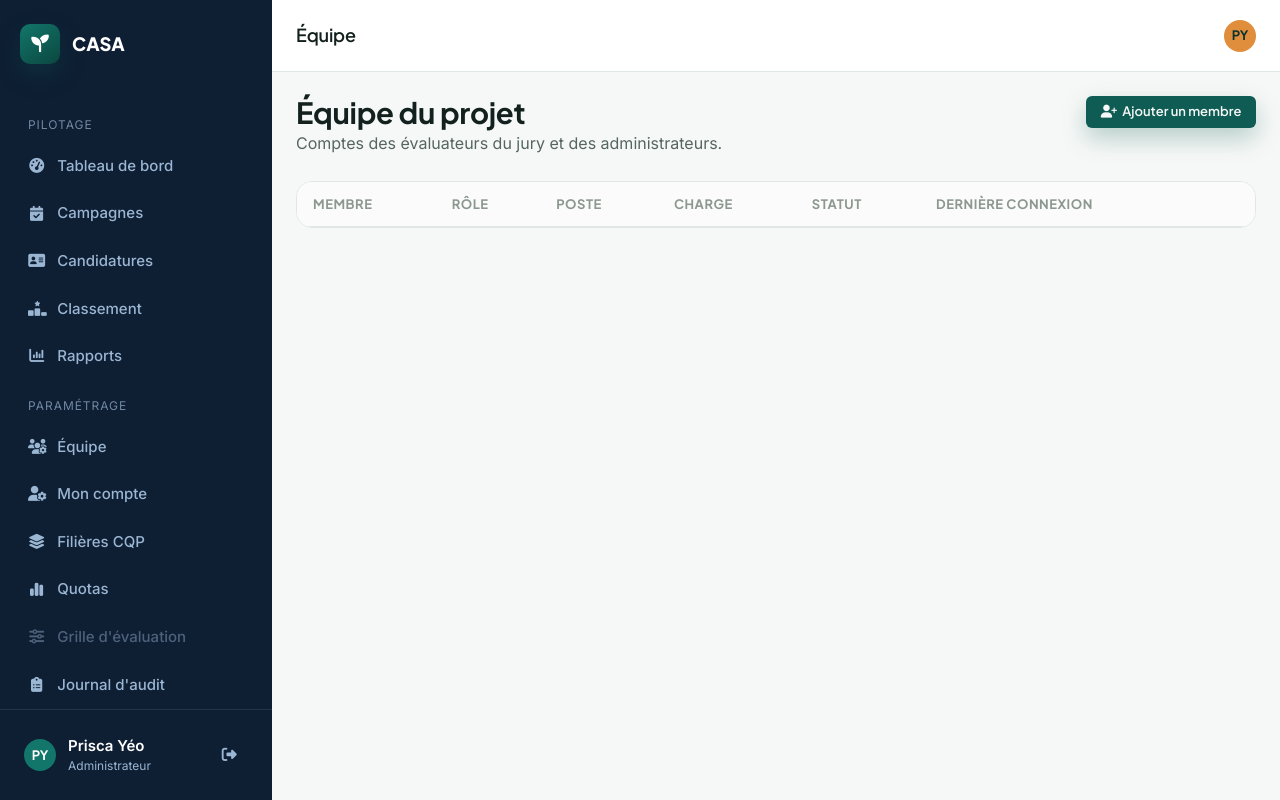
Test: Équipe — gestion des comptes (Lot 11b) › 422 sur un rôle refusé → message verbatim, modal ouvert
Step 1. Click the button "Ajouter un membre" → (1171, 112), box x1=1086 y1=96 x2=1256 y2=128
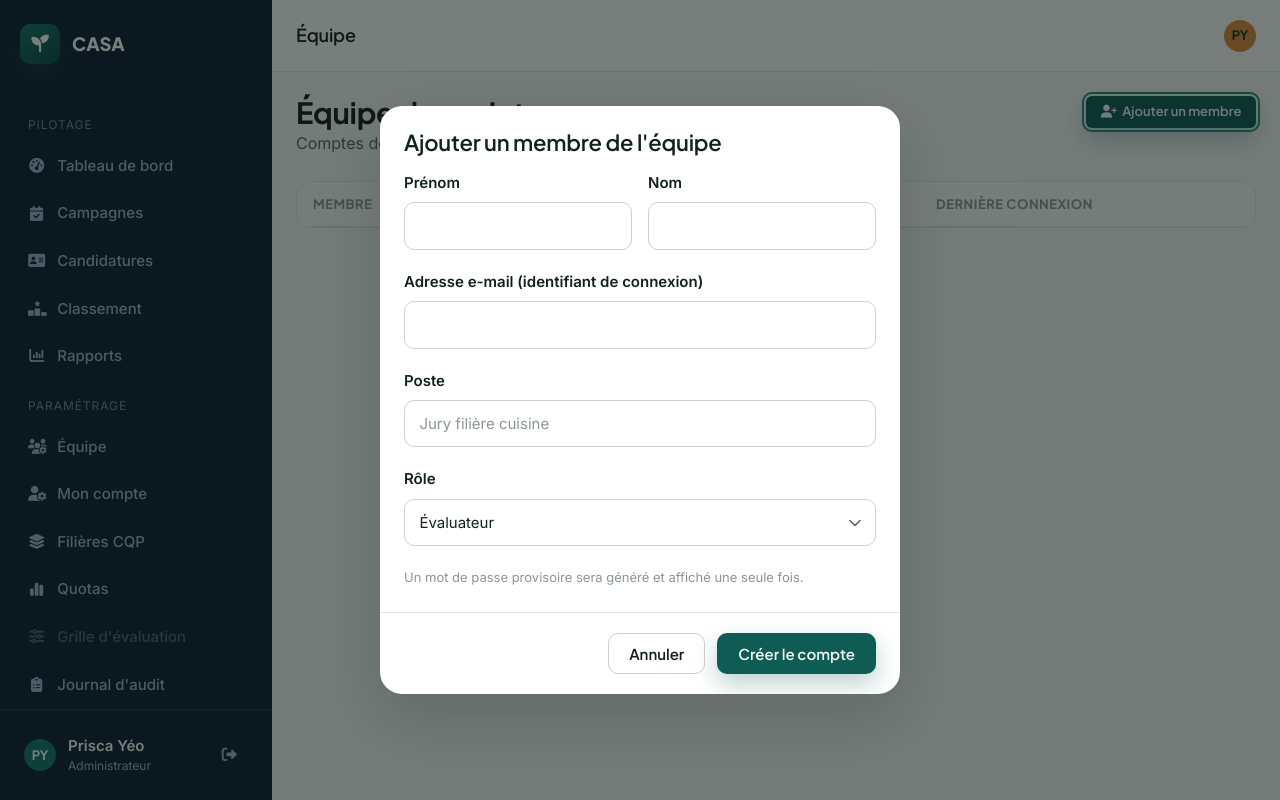
Step 2. Type "X" into the field labelled "Prénom" → (518, 226), box x1=404 y1=202 x2=632 y2=250
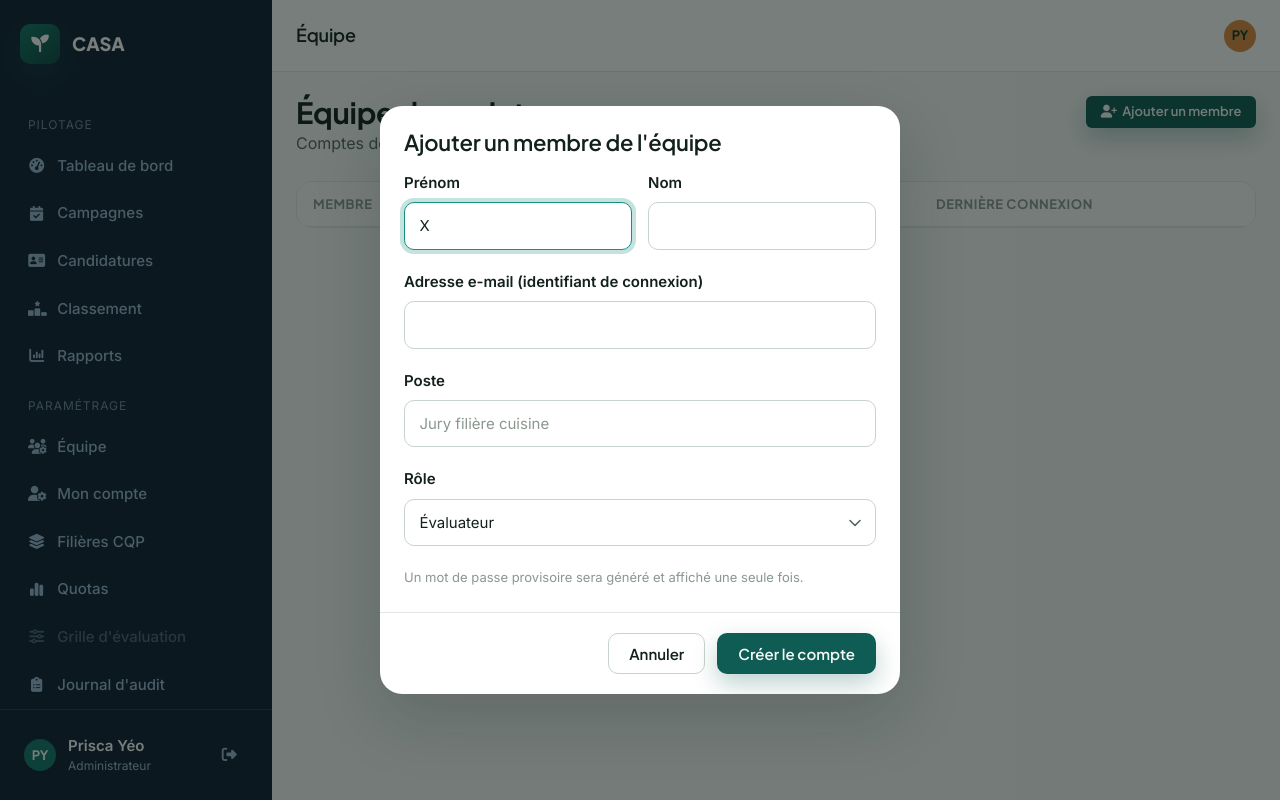
Step 3. Type "Y" into the field labelled "Nom" → (762, 226), box x1=648 y1=202 x2=876 y2=250
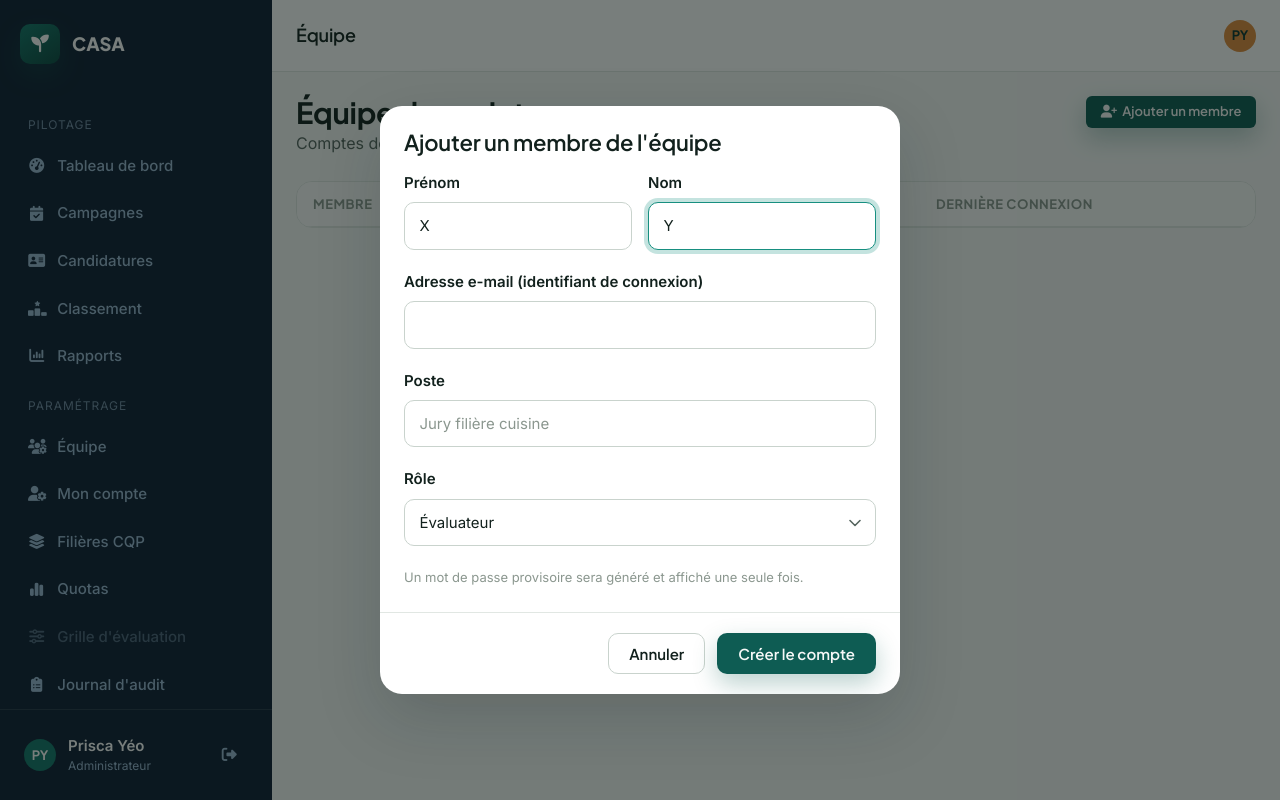
Step 4. Type "x@cci.ci" into the field labelled "Adresse e-mail (identifiant de connexion)" → (640, 325), box x1=404 y1=301 x2=876 y2=349
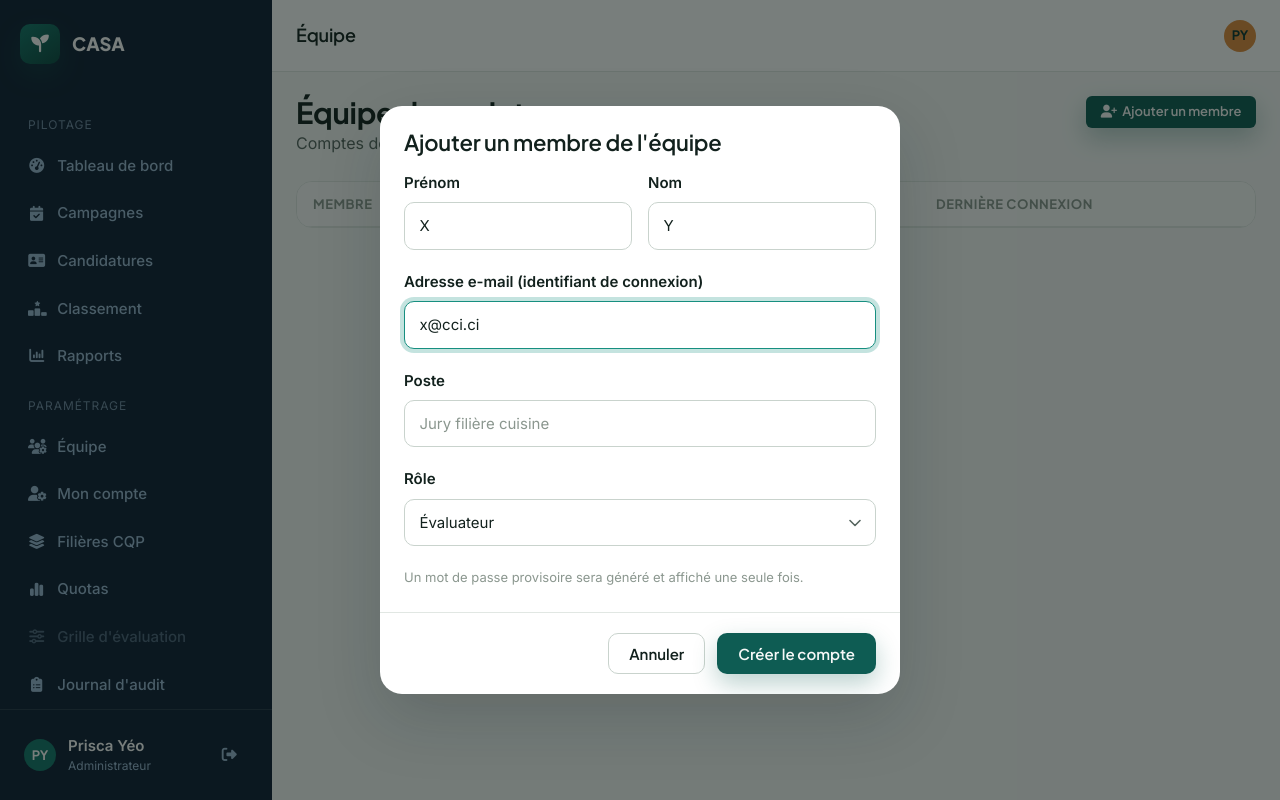
Step 5. Type "Z" into the field labelled "Poste" → (640, 424), box x1=404 y1=400 x2=876 y2=447
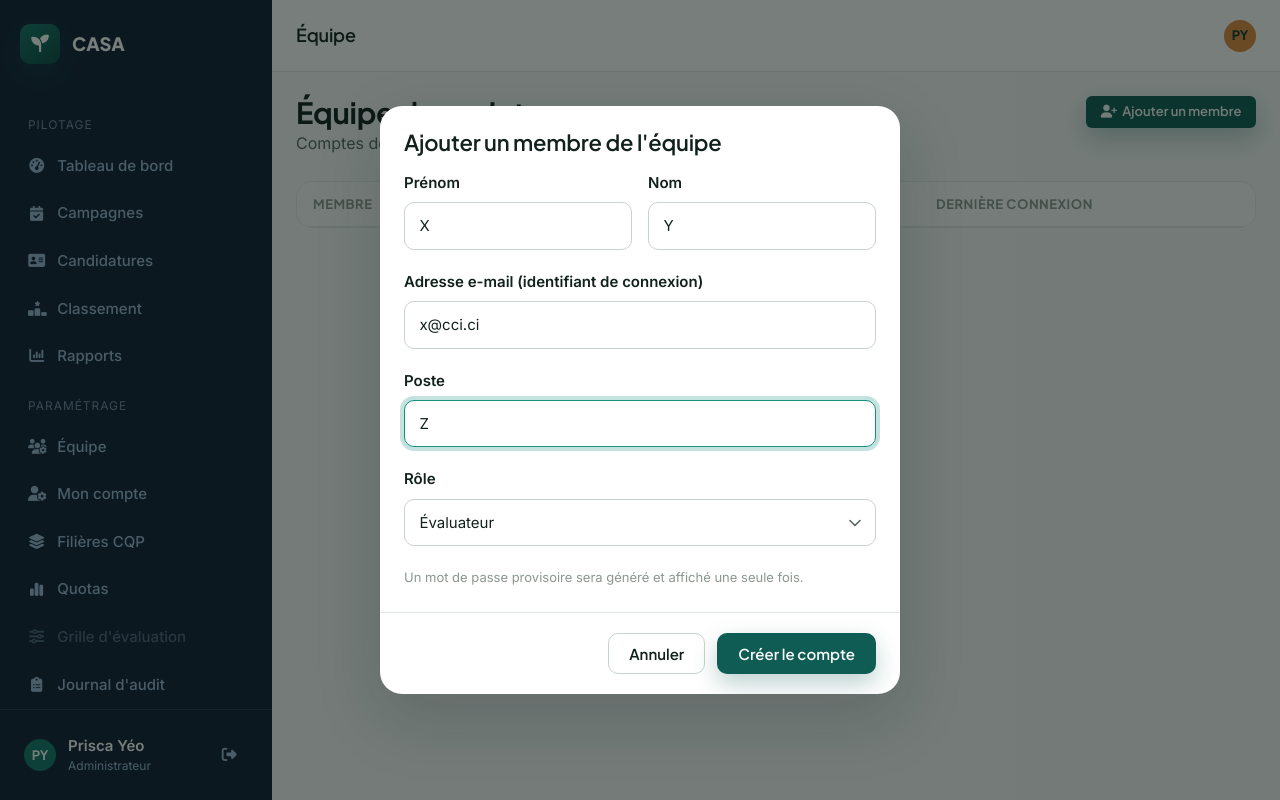
Step 6. Click the button "Créer le compte" → (797, 654), box x1=717 y1=633 x2=876 y2=674
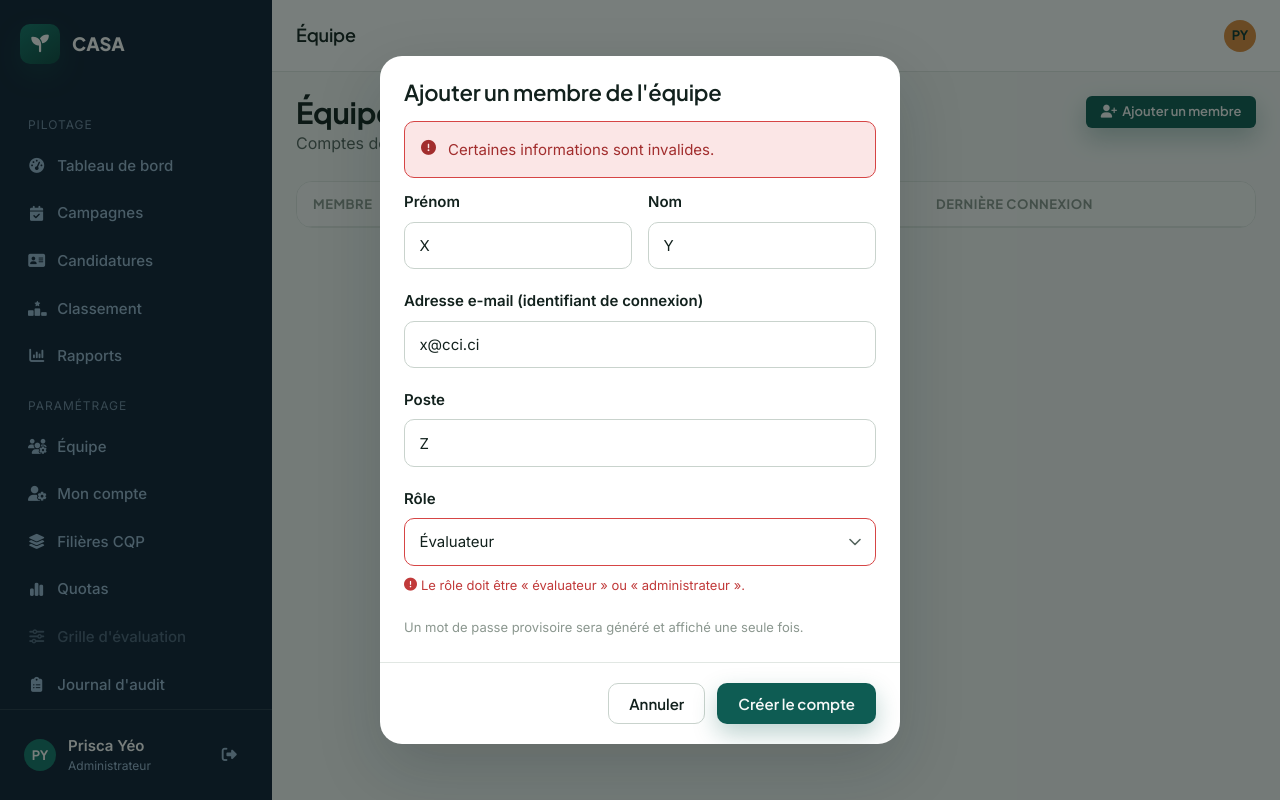
Expected: the dialog is shown
Expected: the text "Le rôle doit être « évaluateur » ou « administrateur »." is shown, x1=404 y1=577 x2=745 y2=593
